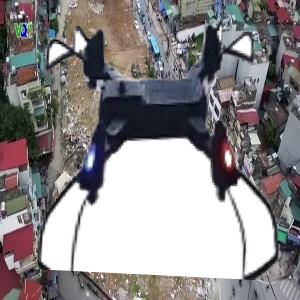drone: (25, 12, 289, 276)
